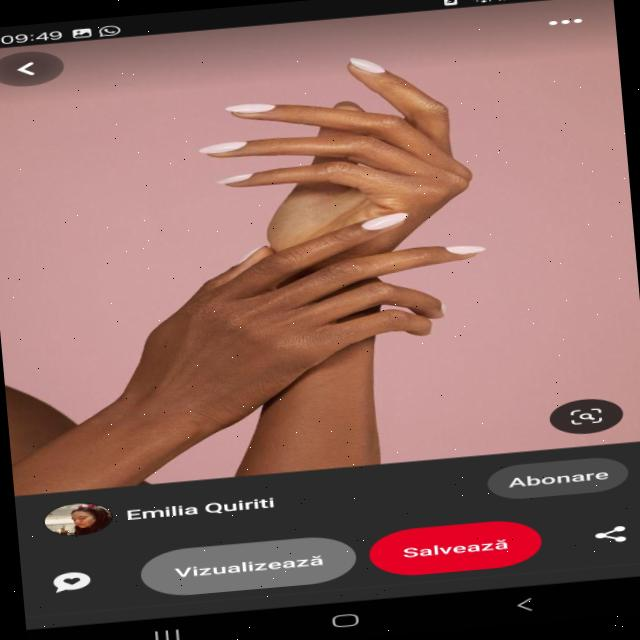hands: (61, 178, 543, 445), (170, 9, 526, 232)
